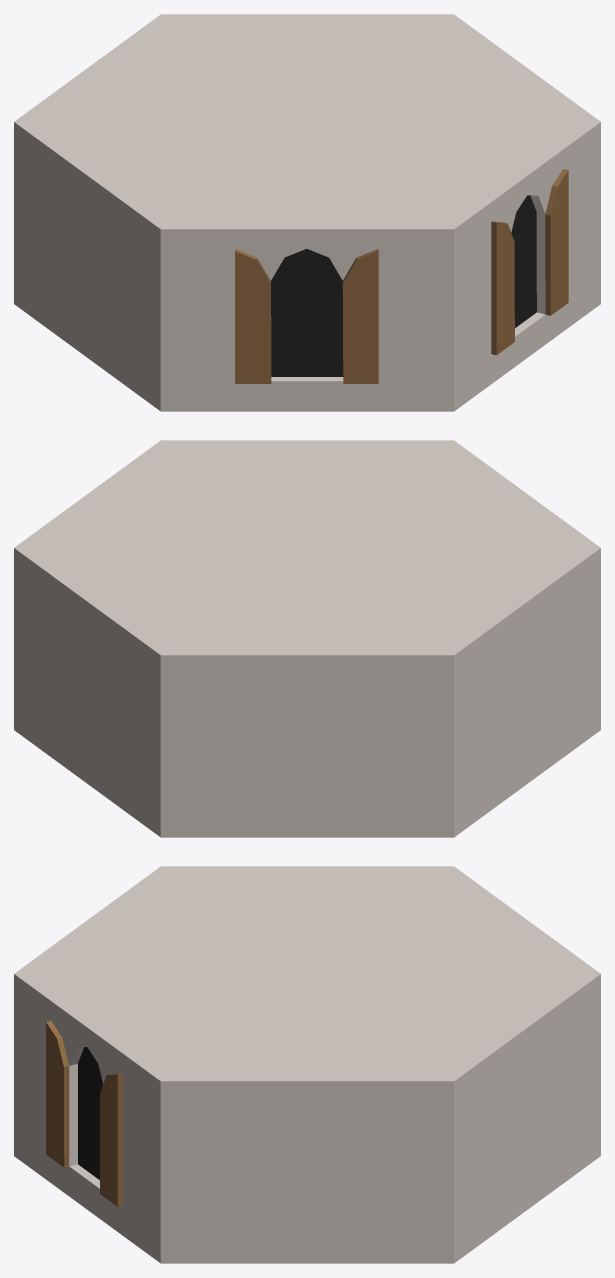
File: RPG_Tiles_Hex_Building_Window_04.FBX
The picture shows the model from 3 angles, top to bottom: view 1: azimuth 30°, elevation 25°; view 2: azimuth 150°, elevation 25°; view 3: azimuth 270°, elevation 25°; orthographic projection.
Parts seen in each view (by area): view 1: RPG_Tiles_Hex_Building_Window_04; view 2: RPG_Tiles_Hex_Building_Window_04; view 3: RPG_Tiles_Hex_Building_Window_04.
Boxes of the visible parts, x1,y1,x2,y2 form: RPG_Tiles_Hex_Building_Window_04: [14, 14, 600, 411]; RPG_Tiles_Hex_Building_Window_04: [14, 440, 600, 837]; RPG_Tiles_Hex_Building_Window_04: [14, 866, 600, 1263].
Bounding box in the file's own units: 3000 × 1186 × 3464.
